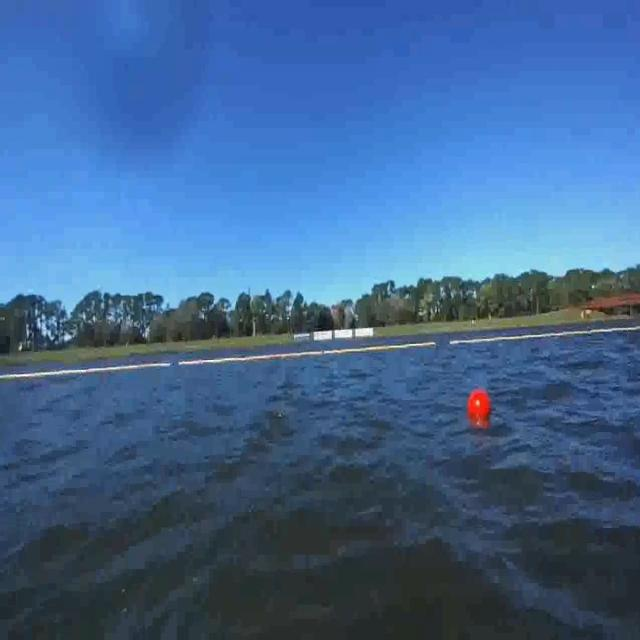red-buoy: (471, 391, 494, 423)
